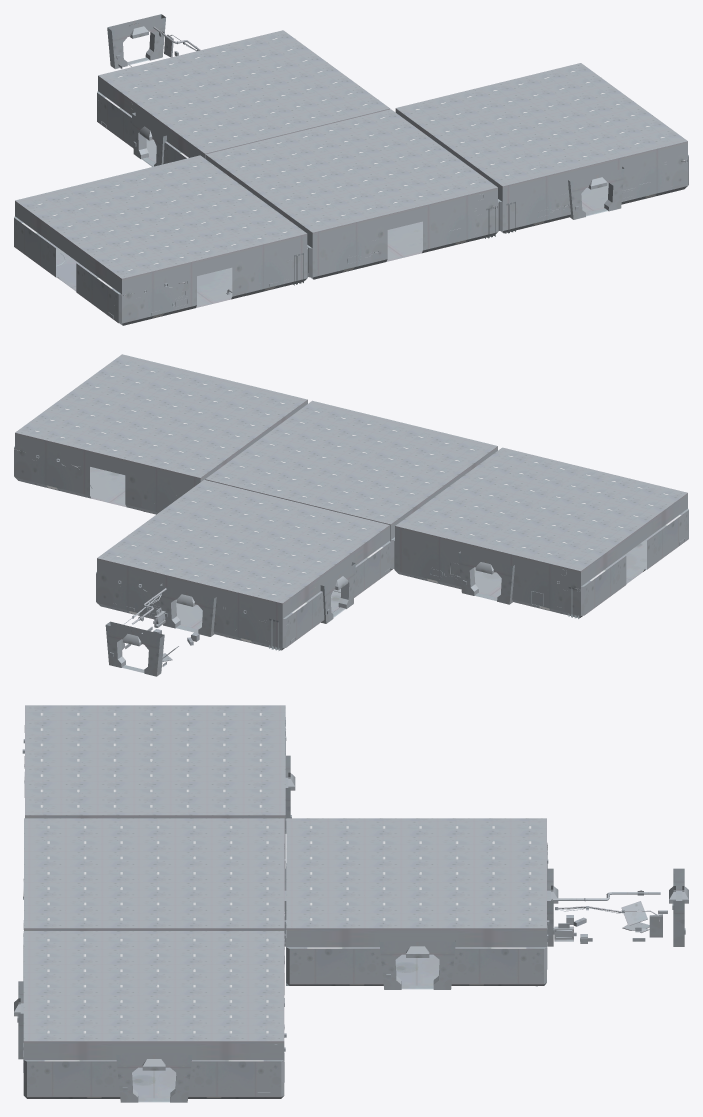
File: Combined_Mesh_root_scene__10_7ad9d44b__ZombiesII_laboratory_02_d_7436f9f5_c1f257_part002.obj
3 renders of one model, top to bottom at view 1: azimuth 30°, elevation 25°; view 2: azimuth 150°, elevation 25°; view 3: azimuth 270°, elevation 25°, orthographic. The views are drawn at different scales.
Size of the model in its own units: 124 by 10.21 by 104.
261 materials, 261 textured.
